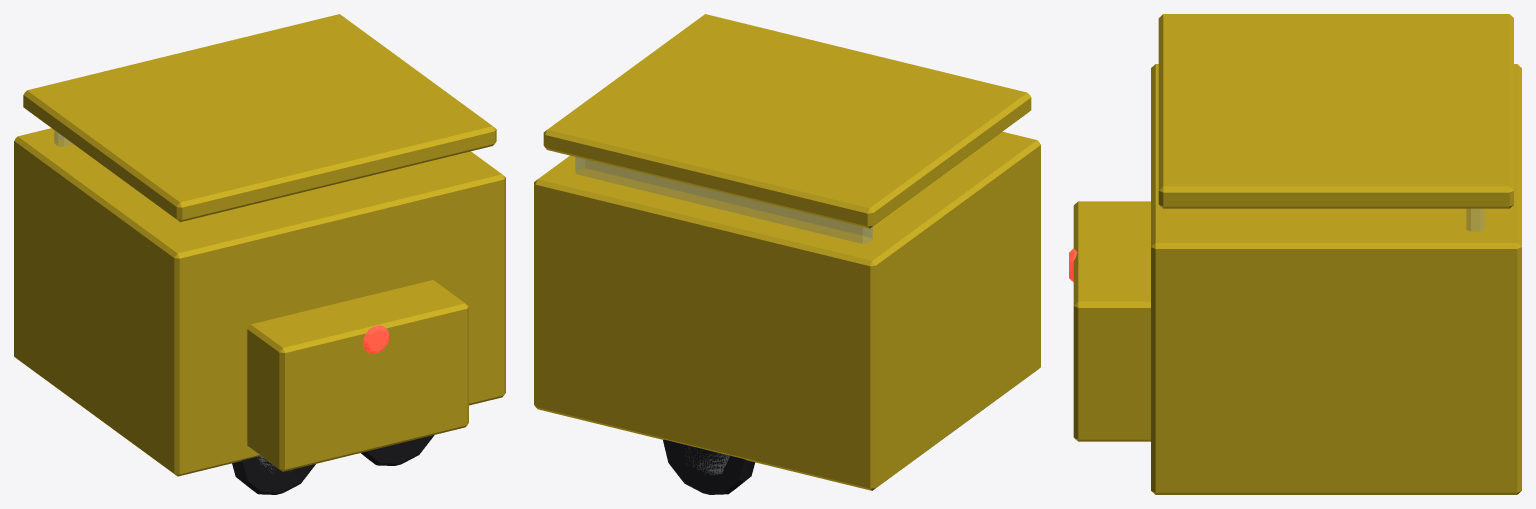
File: VHC_KekeNapep_STR_v001.glb
The picture shows the model from 3 angles, left to right: view 1: azimuth 30°, elevation 25°; view 2: azimuth 150°, elevation 25°; view 3: azimuth 270°, elevation 25°; orthographic projection. The views are drawn at different scales.
Visible parts, largest first — view 1: VHC_KekeNapep_STR_v001; view 2: VHC_KekeNapep_STR_v001; view 3: VHC_KekeNapep_STR_v001.
Part boxes in pixels (x1=…): VHC_KekeNapep_STR_v001: x1=14, y1=14, x2=505, y2=494; VHC_KekeNapep_STR_v001: x1=534, y1=14, x2=1040, y2=494; VHC_KekeNapep_STR_v001: x1=1069, y1=14, x2=1521, y2=494.
Bounding box in the file's own units: 1.4 × 1.27 × 1.47.
